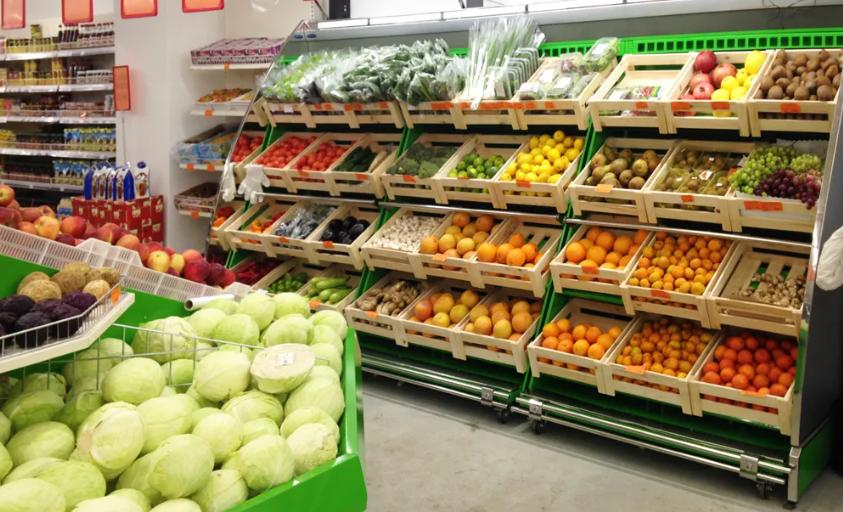cabbage: (0, 346, 345, 512), (126, 292, 353, 382)
cucumber: (333, 147, 384, 175)
eggplant: (320, 214, 370, 248)
garlic: (370, 213, 442, 253)
ginger: (728, 265, 804, 313)
grapes: (733, 140, 829, 208)
lemon: (502, 130, 586, 190), (714, 51, 764, 118)
mandarin: (626, 231, 724, 294), (700, 336, 798, 398), (617, 323, 708, 380)
orange: (562, 230, 648, 284), (516, 237, 602, 291), (420, 210, 495, 270), (540, 318, 620, 370), (410, 287, 477, 344), (465, 300, 542, 349), (482, 230, 544, 279)
pear: (583, 133, 662, 201)
pomegranate: (679, 50, 735, 112)
sweet pepper: (238, 206, 288, 243)
tomato: (253, 130, 314, 170), (287, 136, 346, 171)
